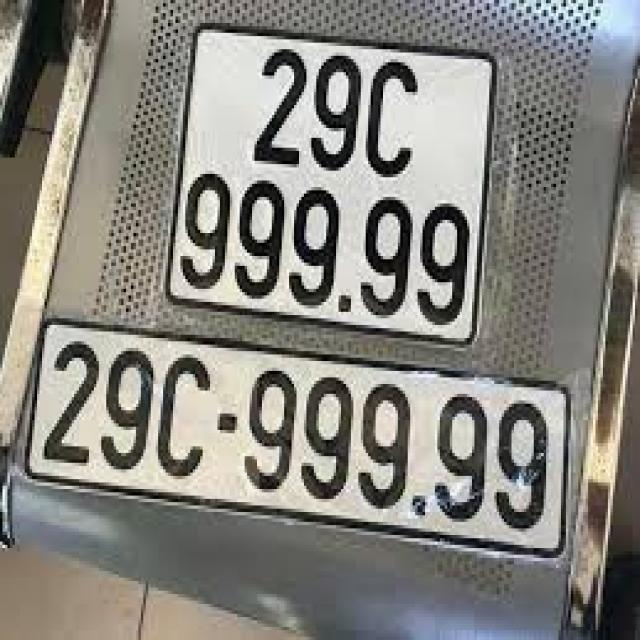bien_so: (21, 312, 575, 572), (159, 22, 515, 366)
